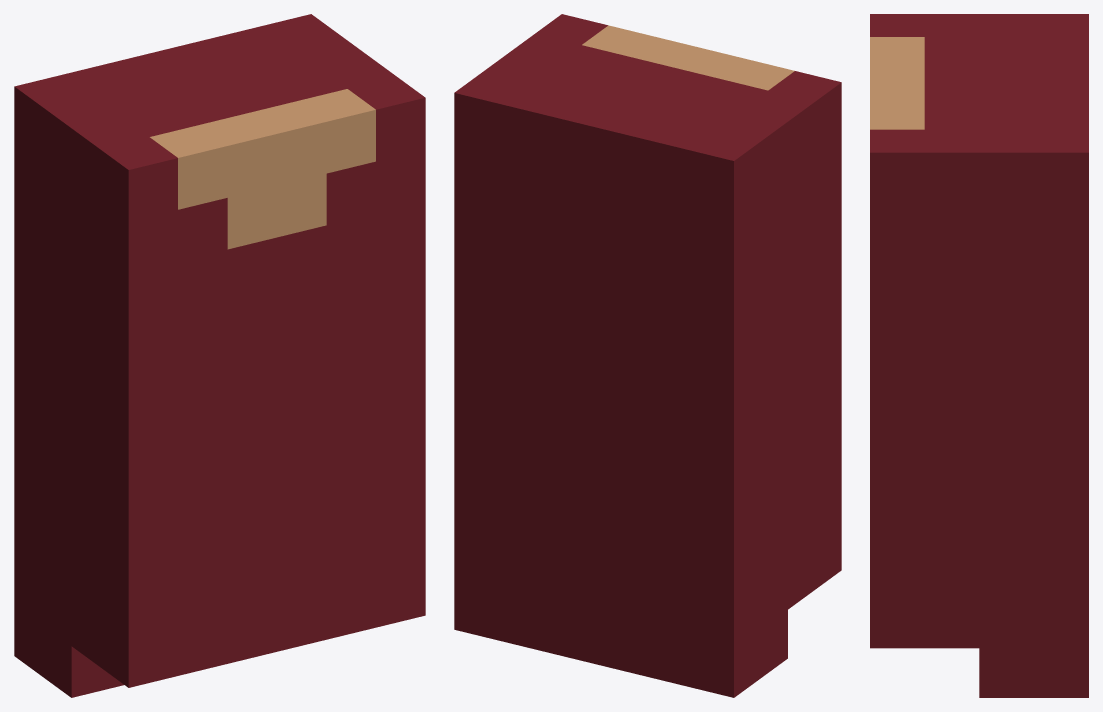
File: torso.obj
3 renders of one model, left to right at view 1: azimuth 30°, elevation 25°; view 2: azimuth 150°, elevation 25°; view 3: azimuth 270°, elevation 25°, orthographic. The views are drawn at different scales.
Size of the model in its own units: 0.6 by 1.1 by 0.4.
1 material, 1 textured.
